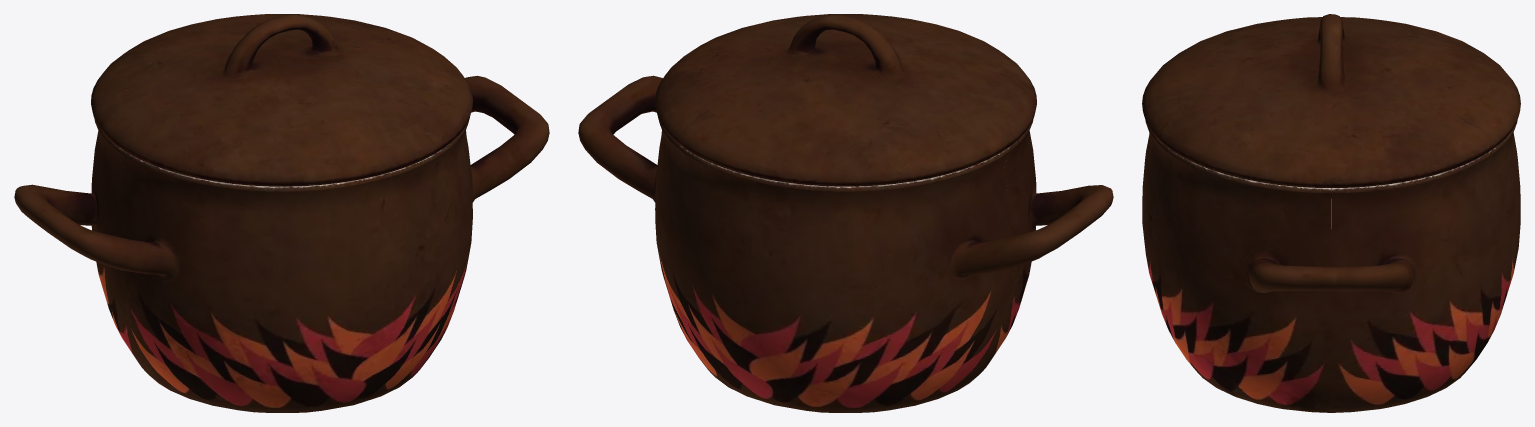
Rendered from pot_enamel_01.glb.
The picture shows the model from 3 angles, left to right: view 1: azimuth 30°, elevation 25°; view 2: azimuth 150°, elevation 25°; view 3: azimuth 270°, elevation 25°; orthographic projection.
Visible parts, largest first — view 1: pot_enamel_01_base, pot_enamel_01_lid; view 2: pot_enamel_01_base, pot_enamel_01_lid; view 3: pot_enamel_01_base, pot_enamel_01_lid.
Part boxes in pixels (box(x1,y1,x2,y2)): pot_enamel_01_base: box(14, 75, 549, 412); pot_enamel_01_lid: box(91, 14, 472, 186); pot_enamel_01_base: box(578, 75, 1113, 412); pot_enamel_01_lid: box(655, 14, 1036, 186); pot_enamel_01_base: box(1142, 120, 1520, 412); pot_enamel_01_lid: box(1142, 14, 1520, 188).
Bounding box in the file's own units: 0.2629 × 0.1782 × 0.1805.
Materials: 1 (1 with a texture image).
